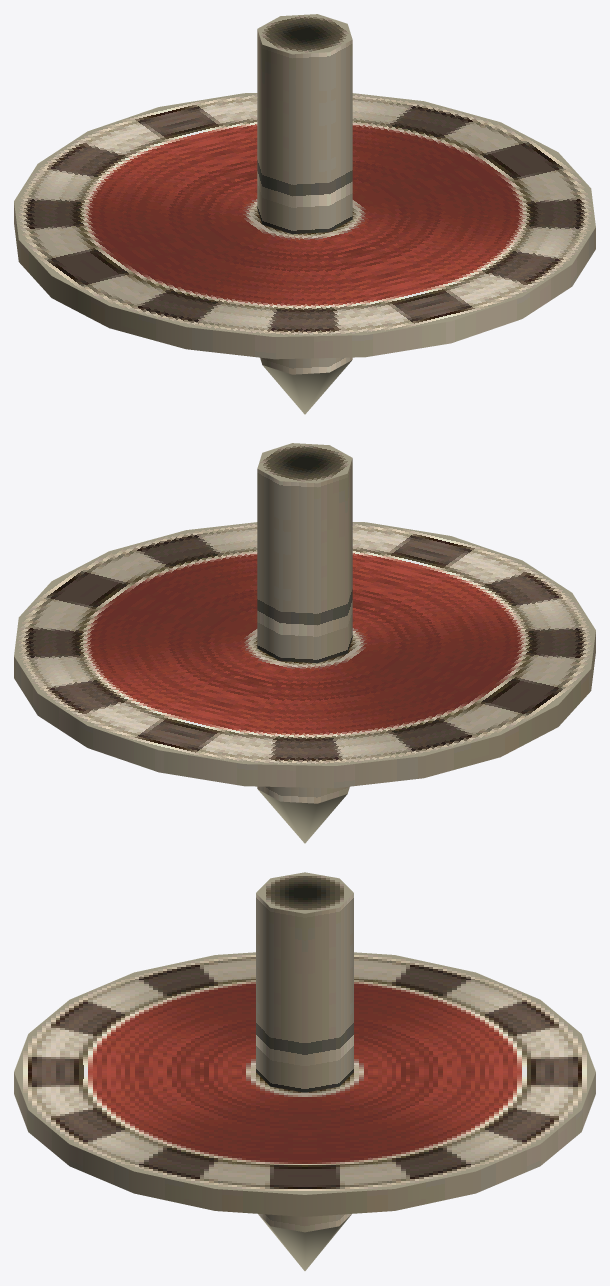
The model's file is rob_Gyro_model.fbx.
3 renders of one model, top to bottom at view 1: azimuth 30°, elevation 25°; view 2: azimuth 150°, elevation 25°; view 3: azimuth 270°, elevation 25°, orthographic.
Visible parts, largest first — view 1: Mesh; view 2: Mesh; view 3: Mesh.
Boxes of the visible parts, x1,y1,x2,y2 form: Mesh: [14, 14, 595, 414]; Mesh: [14, 443, 595, 843]; Mesh: [14, 872, 595, 1270].
Size of the model in its own units: 6.72 by 4.83 by 6.72.
